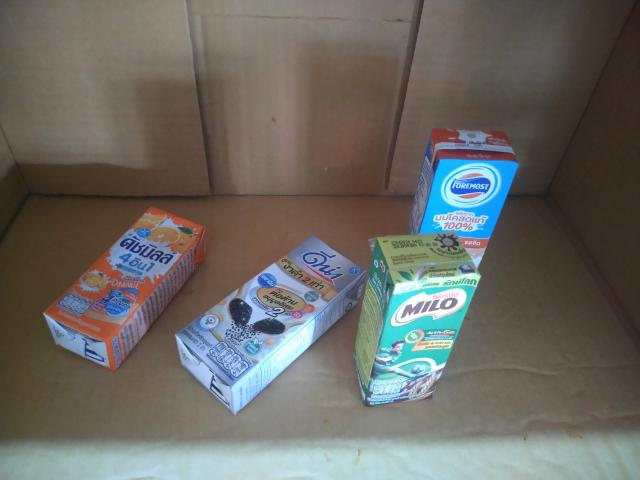drink_box: (161, 220, 382, 432), (20, 195, 234, 386), (357, 231, 478, 416), (403, 118, 538, 249)
